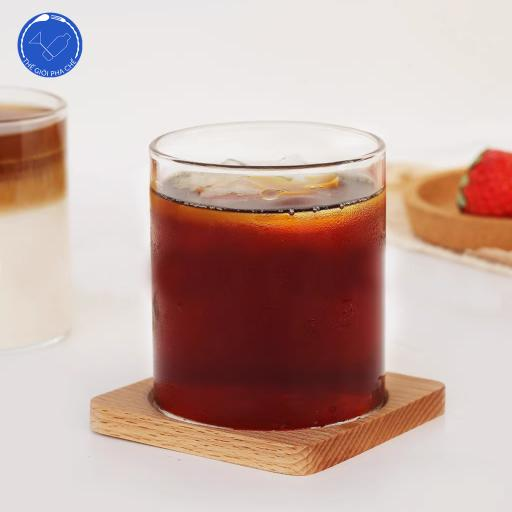cup: (150, 122, 387, 430)
